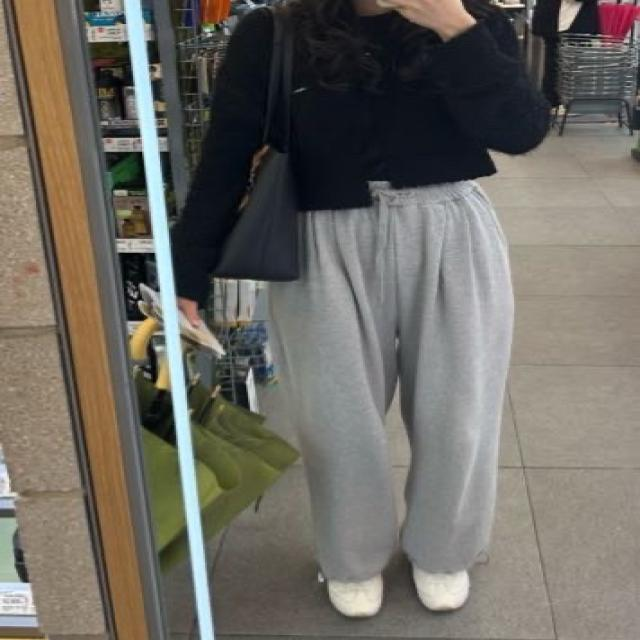cardigan: (156, 2, 549, 298)
trainingpants: (260, 172, 512, 582)
